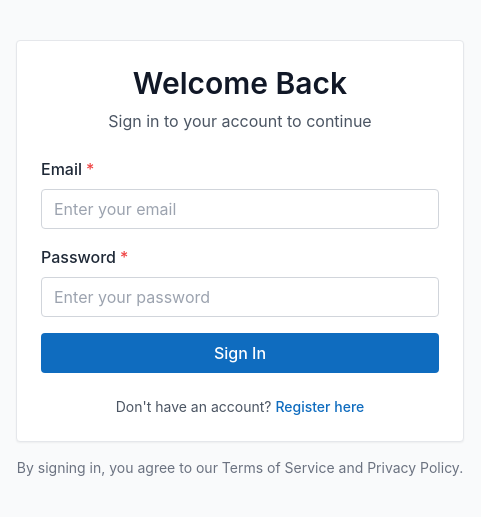
Scenario: LoginPage › Form Validation › should show error when email format is invalid
Type "invalid-email" into the field labelled "Email*" at (240, 209), box [41,189,439,229]
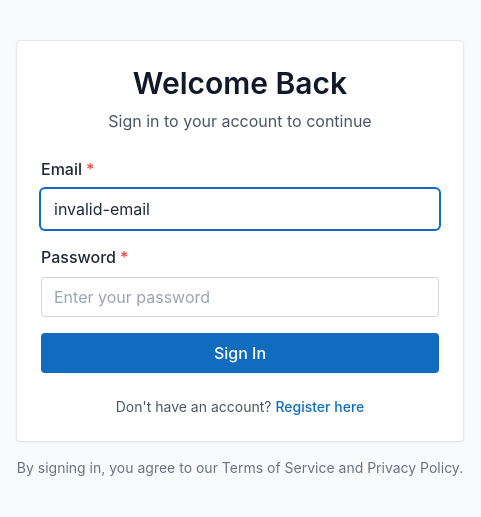
Click the button "Sign In" at (240, 353), box [41,333,439,373]
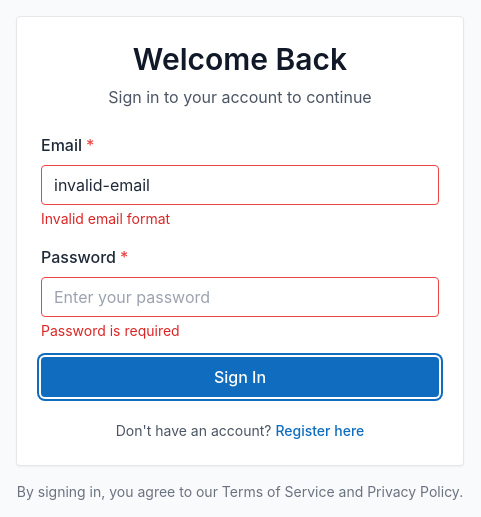
Now the text "Invalid email format" is shown, box [41,210,170,227]
